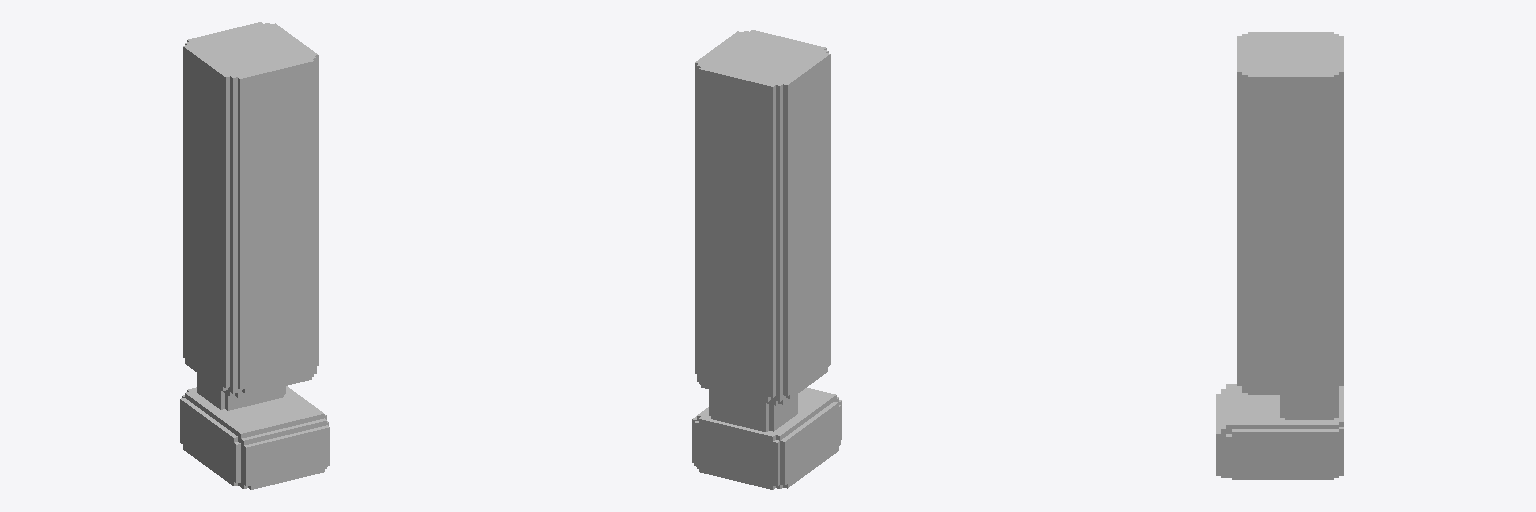
Rendered from Noga_siniy.obj.
3 renders of one model, left to right at view 1: azimuth 30°, elevation 25°; view 2: azimuth 150°, elevation 25°; view 3: azimuth 270°, elevation 25°, orthographic.
Visible parts, largest first — view 1: object 1; view 2: object 1; view 3: object 1.
Part boxes in pixels (x1,y1,x2,y2): object 1: (180,22,329,489); object 1: (692,30,841,489); object 1: (1216,32,1343,479).
Bounding box in the file's own units: 2 × 8.3 × 2.4.